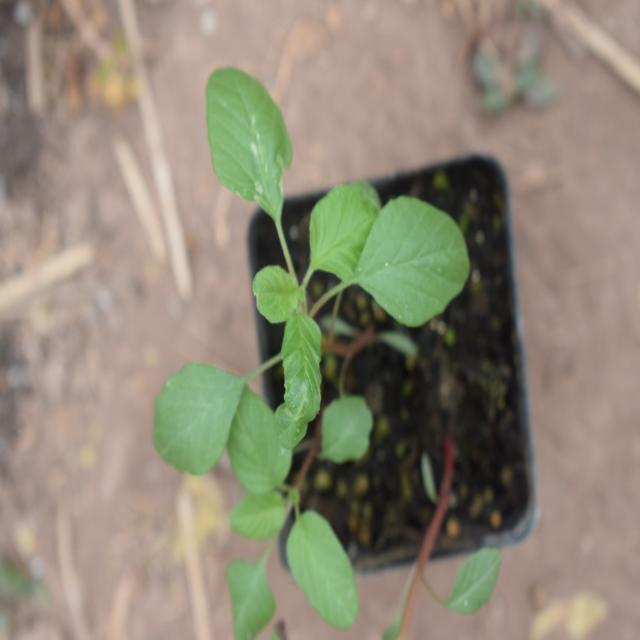pigweed: (168, 63, 445, 475)
